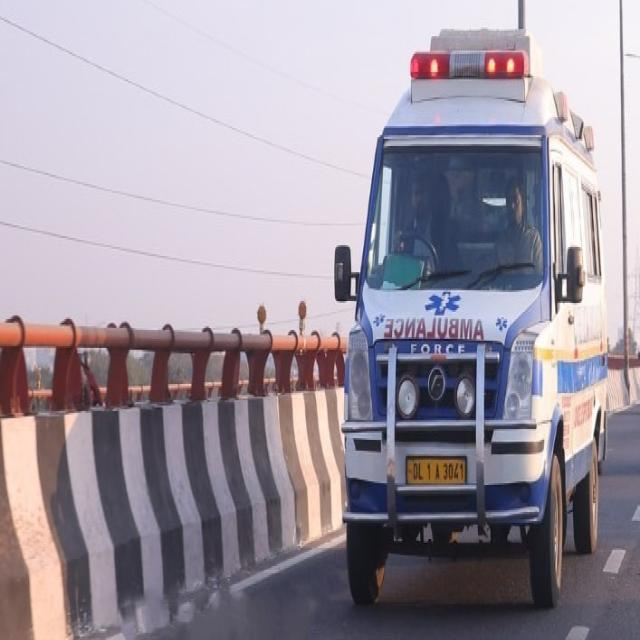emergency: (335, 30, 606, 606)
